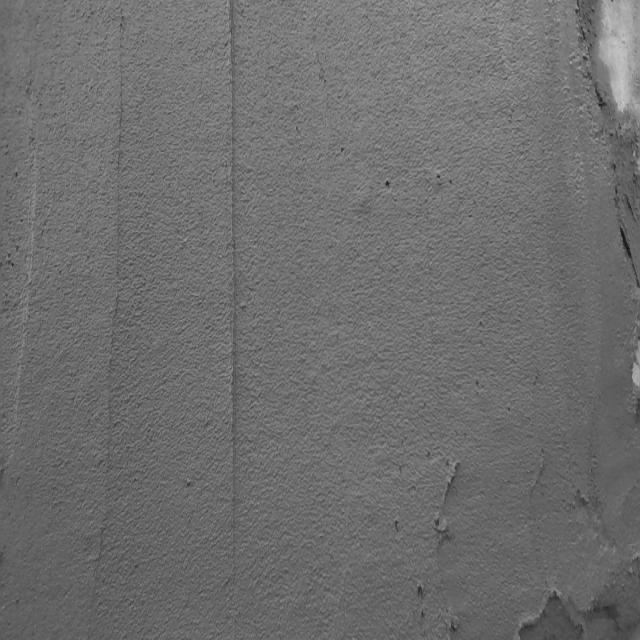trowels marks: (101, 24, 128, 526), (222, 3, 244, 564)
